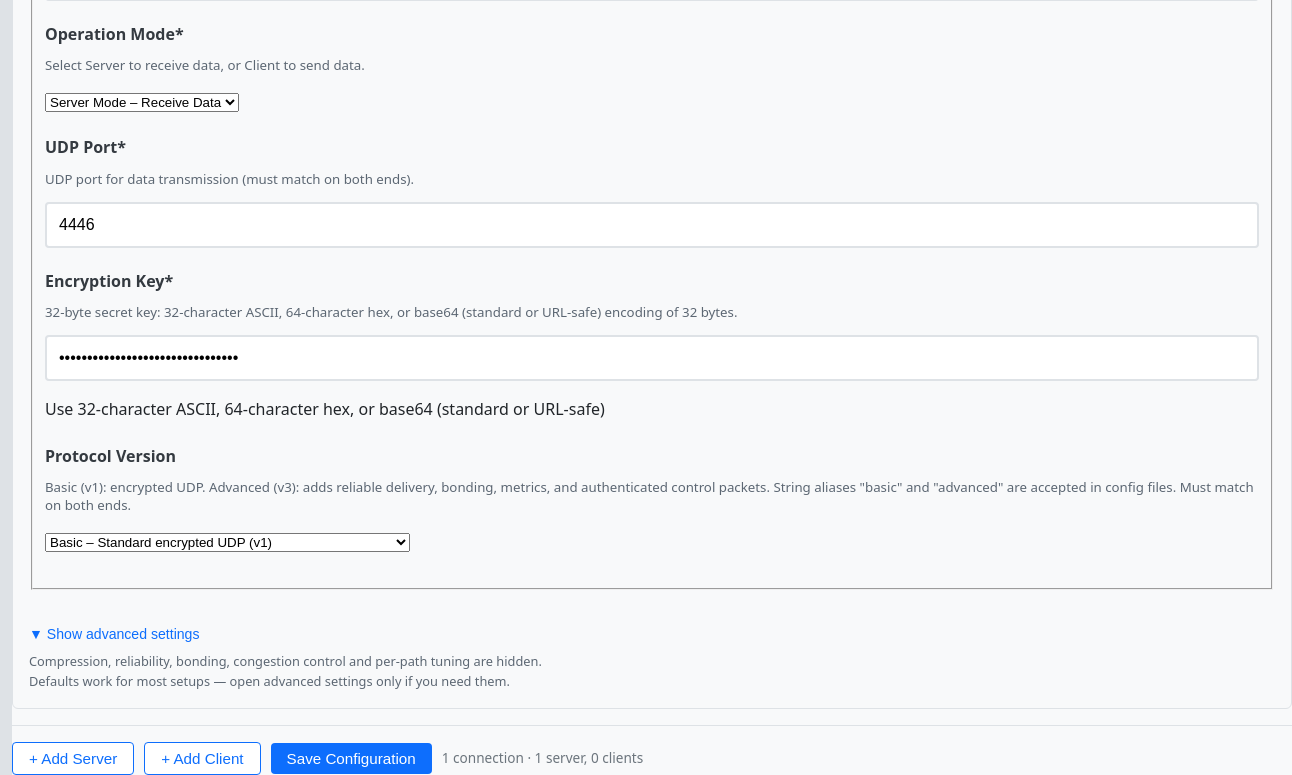
Test case: PluginConfigurationPanel › toolbar counter updates after adding connections
(page scrolled)
Click the button "+ Add Client".
click(202, 758)  # box [144, 742, 260, 774]
(page scrolled)
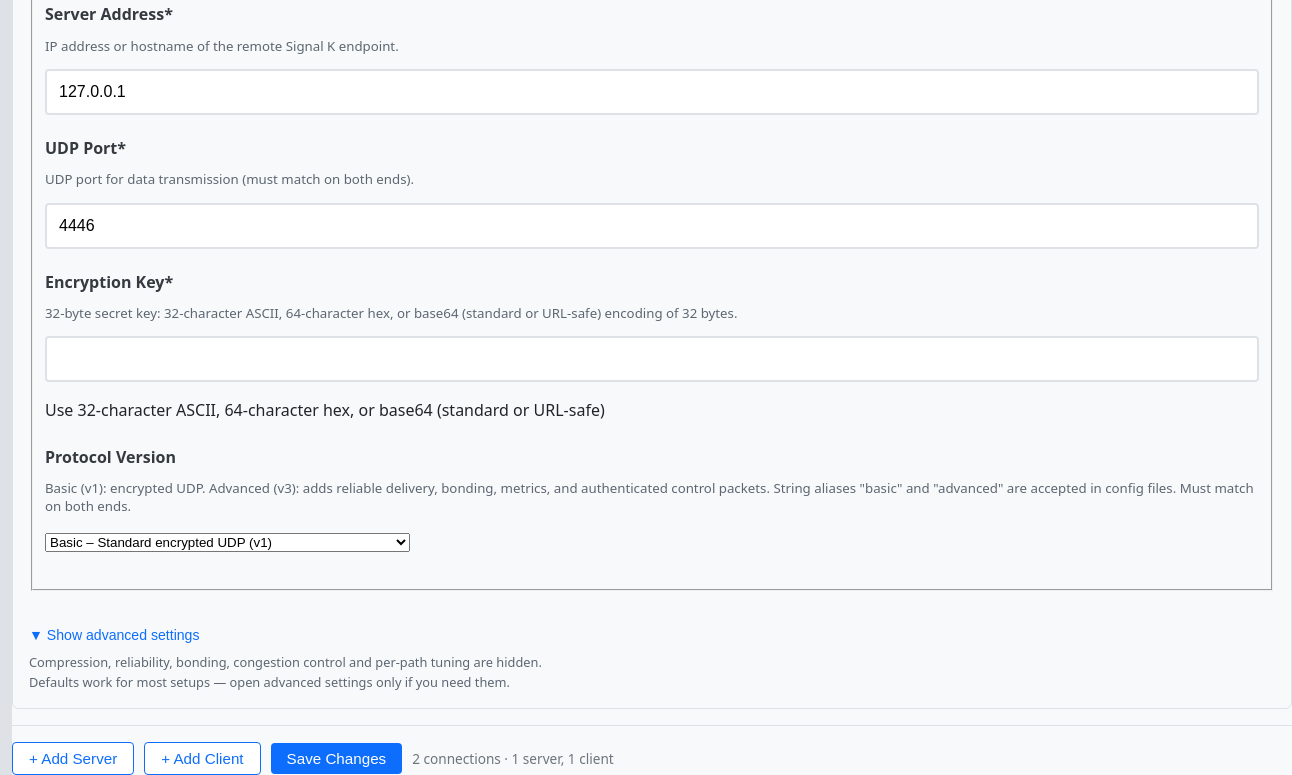
Expected: the text "2 connections · 1 server, 1 client" is shown, [412, 748, 614, 770]
